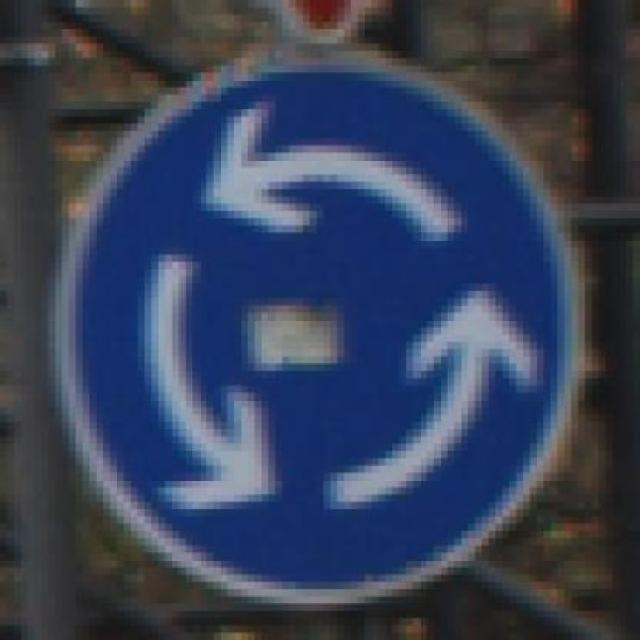Round-About: (48, 51, 606, 626)
